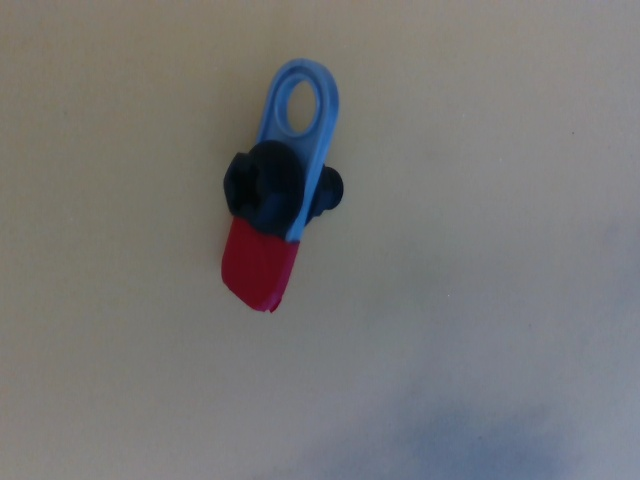part_1_good: (216, 53, 350, 319)
